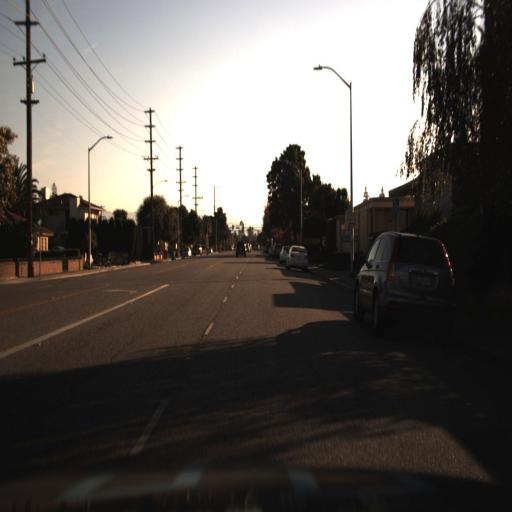car: (342, 220, 460, 353), (285, 241, 316, 275), (232, 239, 250, 263), (276, 241, 288, 267)
